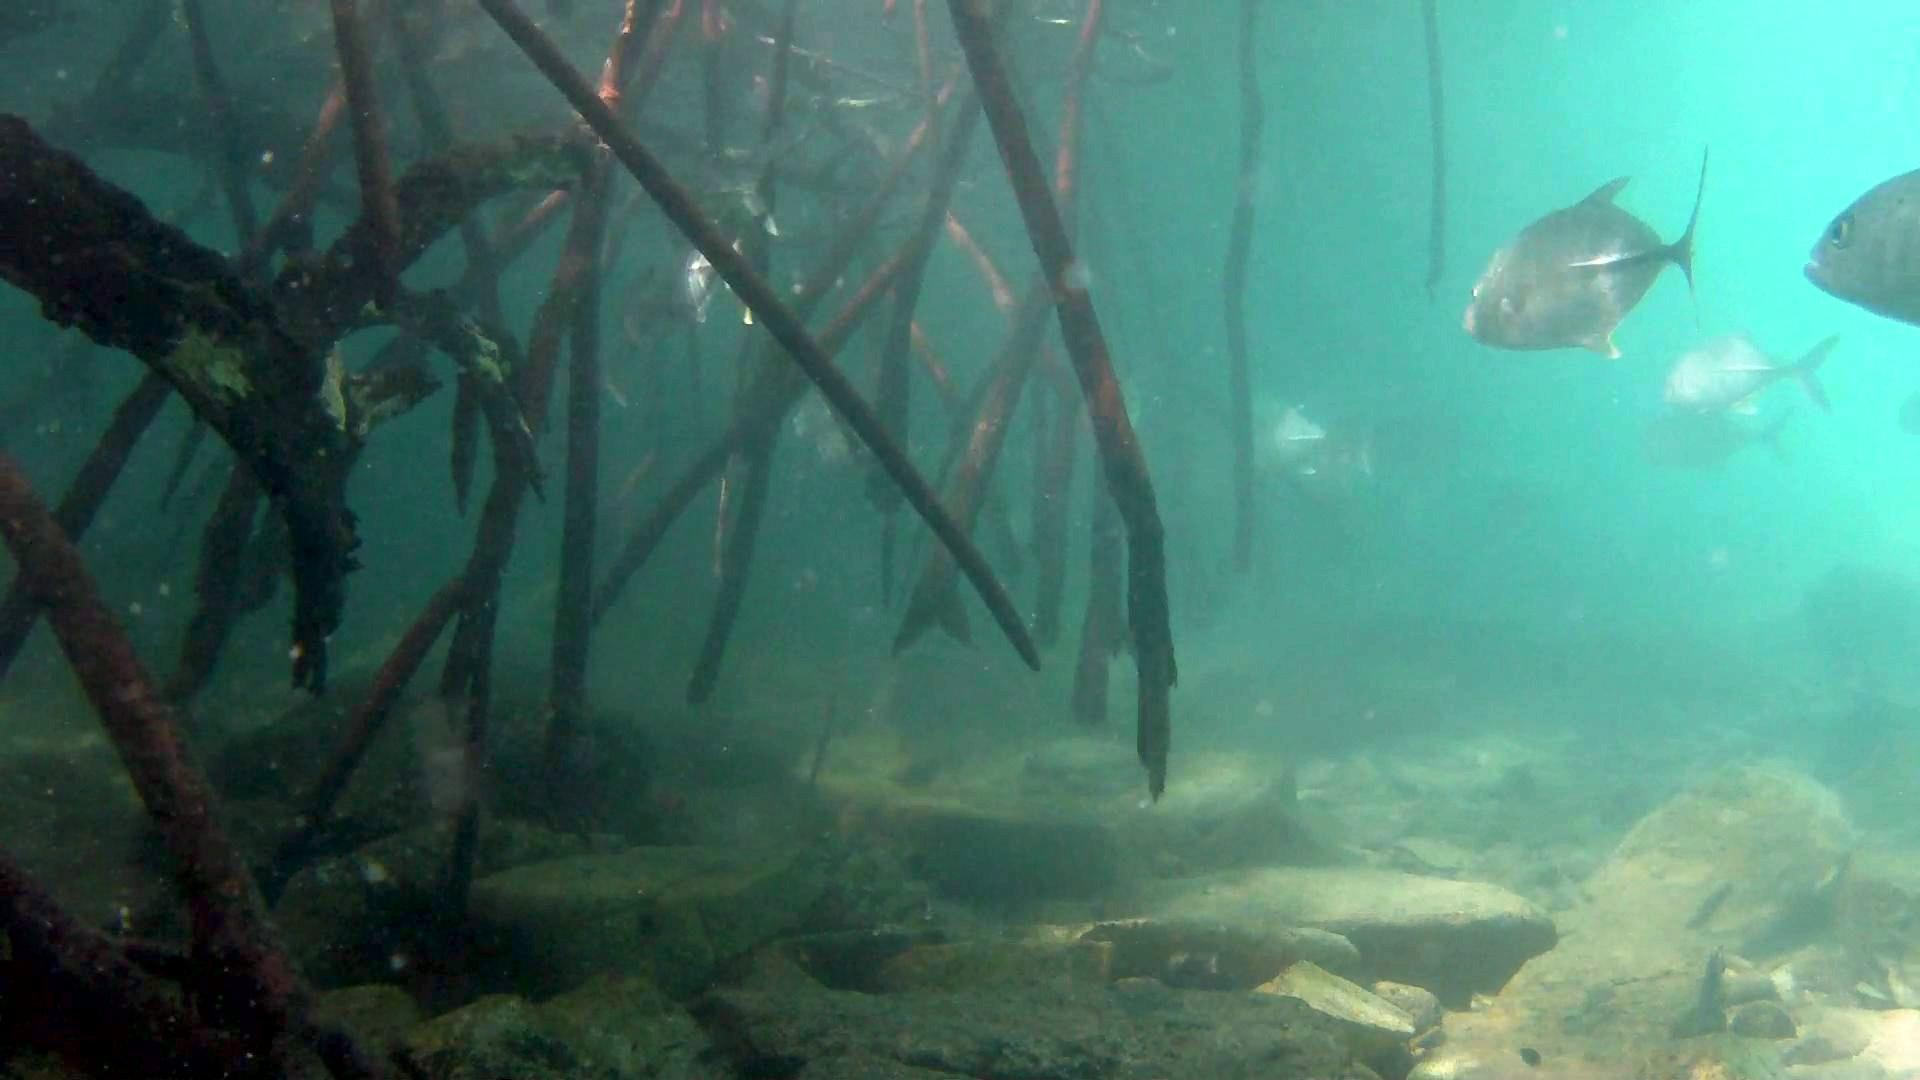caranx: (1453, 161, 1712, 369), (1793, 148, 1920, 342)
